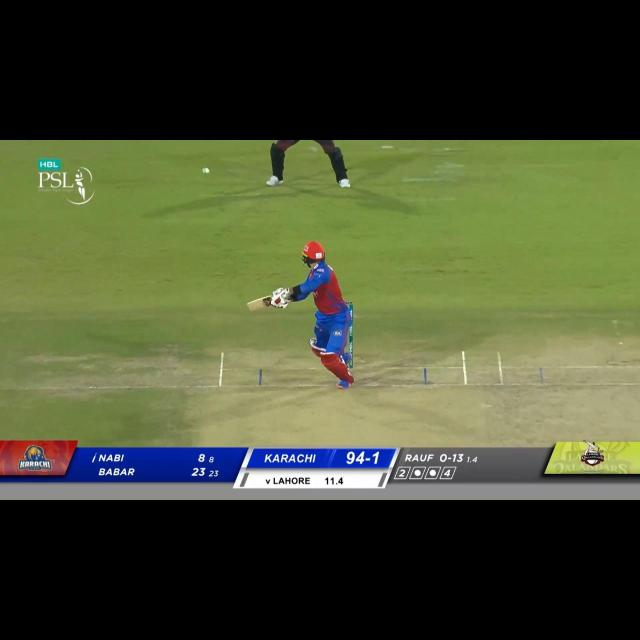bat: (247, 296, 276, 316)
toe: (246, 301, 255, 315)
